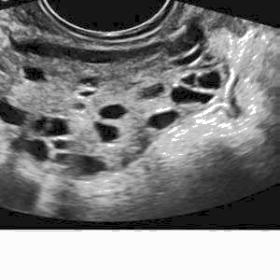PCOS: (48, 154, 108, 181), (171, 84, 217, 112), (6, 135, 52, 162), (0, 94, 30, 131), (145, 108, 183, 132), (195, 68, 234, 89), (94, 117, 118, 148), (98, 100, 127, 123), (23, 59, 46, 84), (138, 81, 166, 101), (47, 116, 66, 140), (30, 114, 49, 135), (79, 72, 103, 88), (180, 71, 198, 89), (77, 88, 97, 99), (70, 101, 90, 112), (51, 138, 69, 148)
